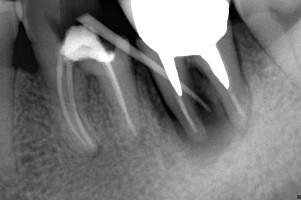Dental Caries: (132, 58, 237, 166)
Furcation Involvement: (92, 142, 105, 159)
